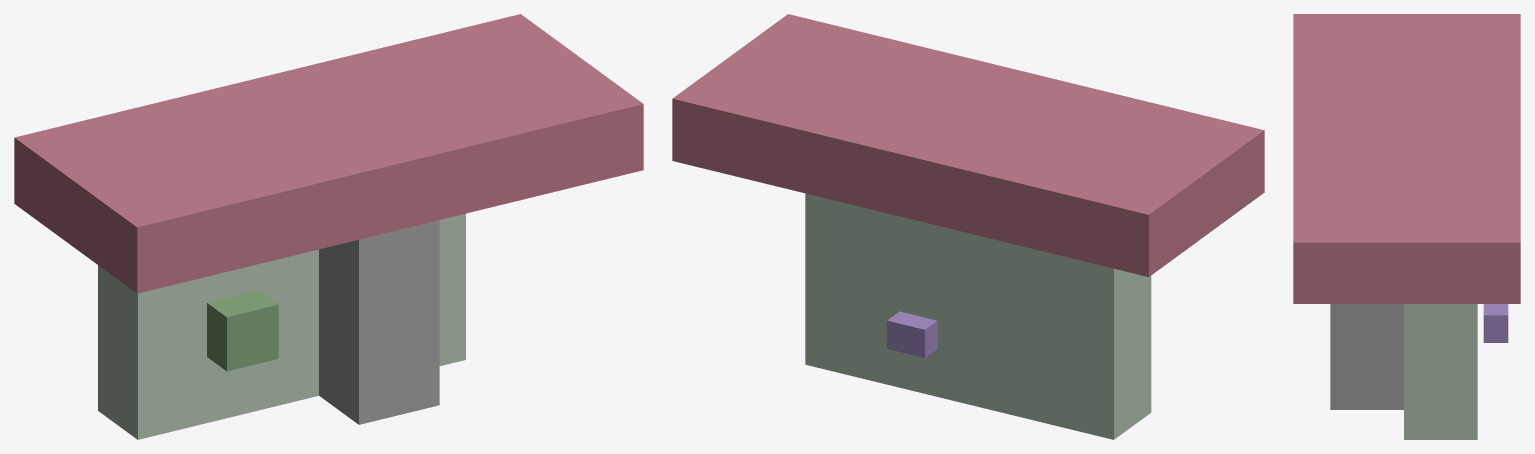
3 views of the same model, side by side, from view 1: azimuth 30°, elevation 25°; view 2: azimuth 150°, elevation 25°; view 3: azimuth 270°, elevation 25° (orthographic). The views are drawn at different scales.
Visible parts, largest first — view 1: world; view 2: world; view 3: world.
Boxes of the visible parts, left/top/right/bottom form: world: left=14, top=14, right=643, bottom=439; world: left=672, top=14, right=1264, bottom=439; world: left=1293, top=14, right=1520, bottom=439.
Bounding box in the file's own units: 8.8 × 4.5 × 3.7.
